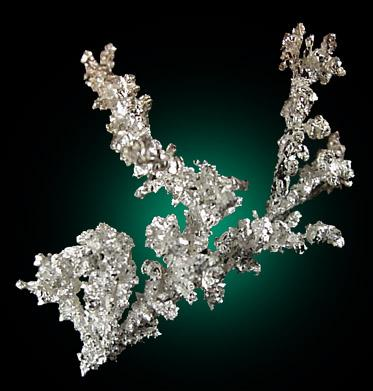silver: (17, 23, 355, 376)
